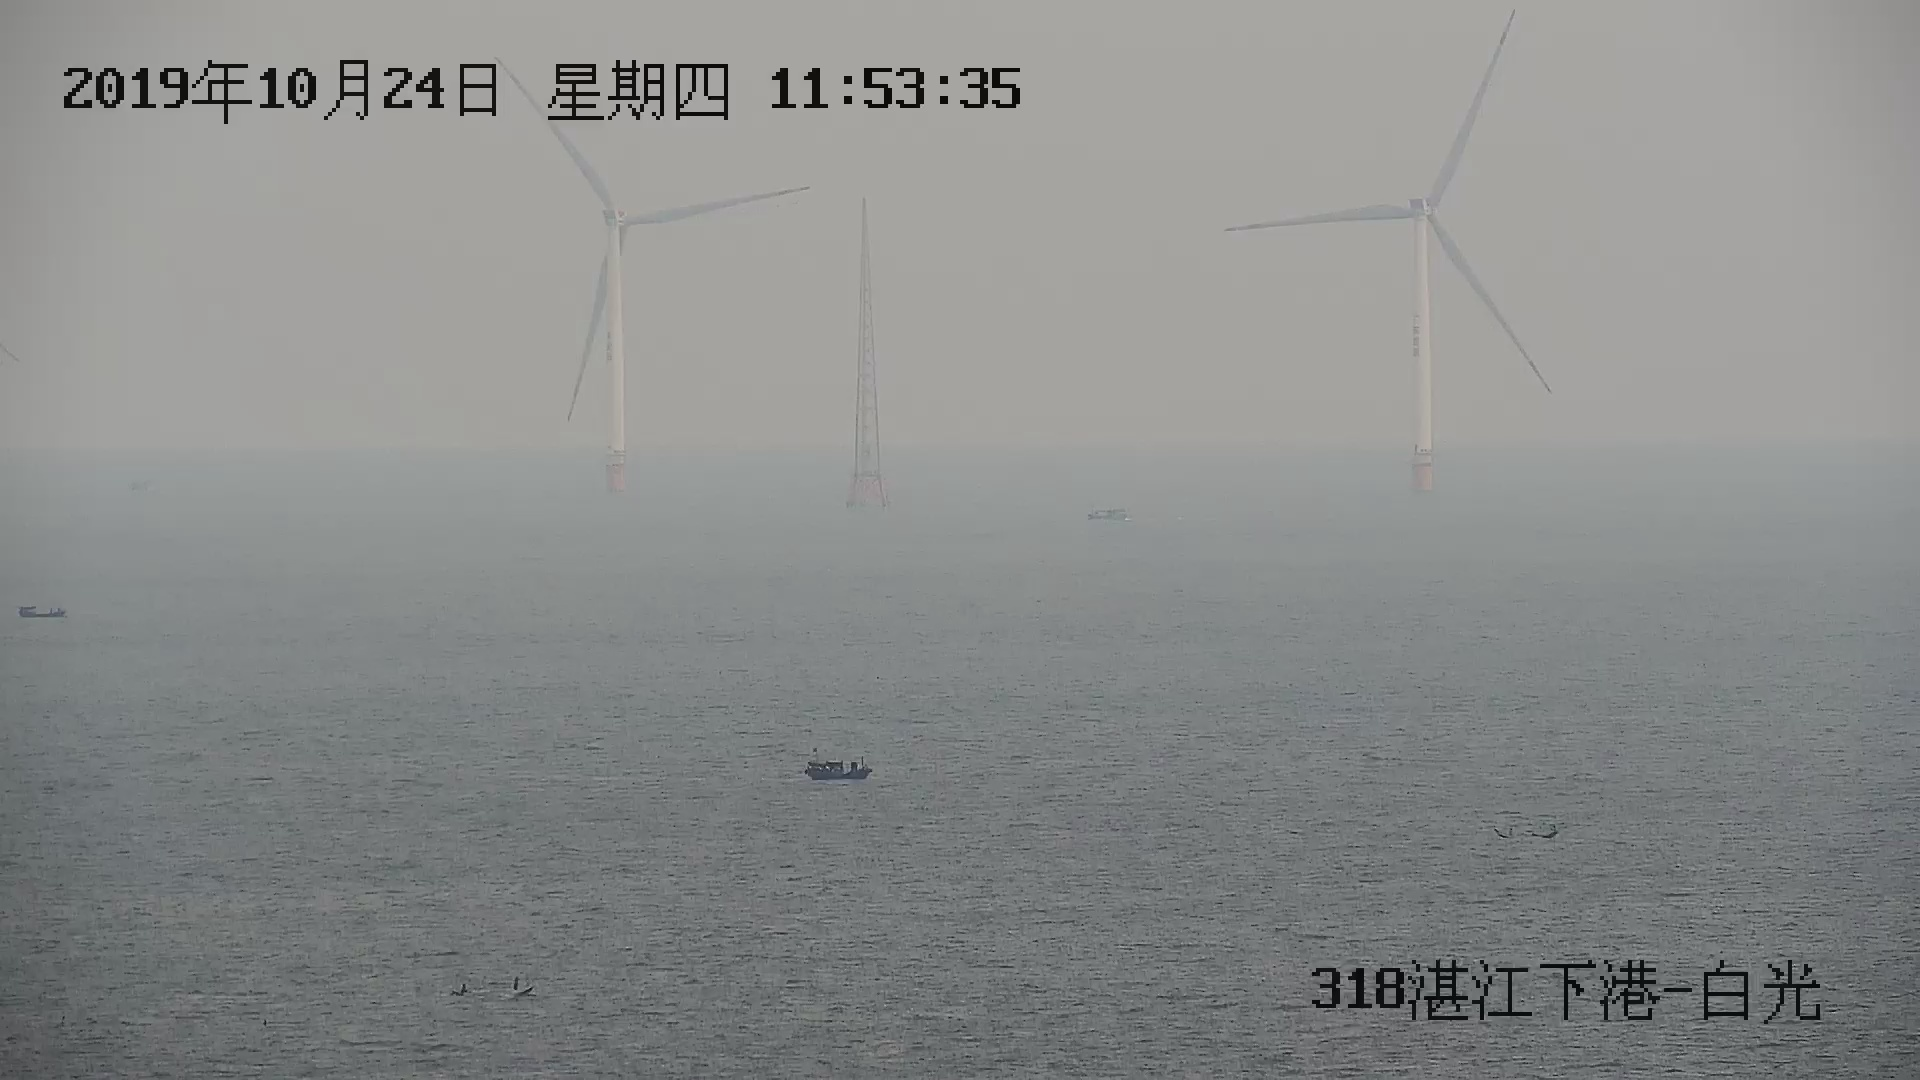ship: (802, 749, 873, 786)
